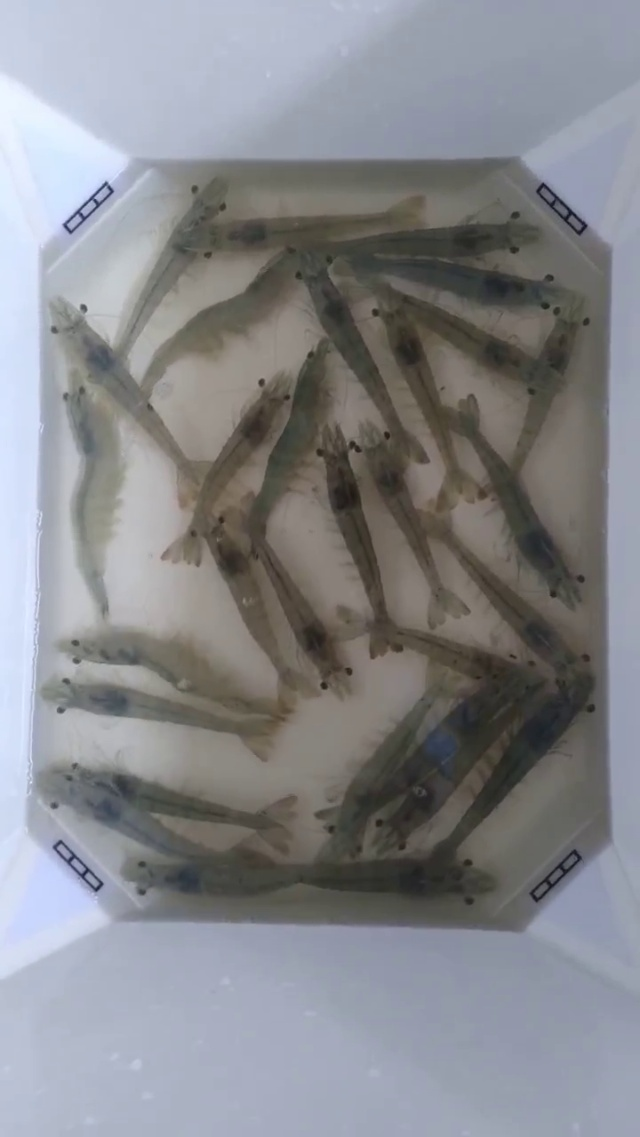shrimp: (167, 452, 275, 660), (228, 561, 338, 759), (582, 175, 639, 486), (488, 290, 585, 471), (582, 503, 639, 792), (264, 343, 358, 515), (80, 773, 186, 917), (86, 328, 191, 472), (133, 177, 227, 330), (41, 196, 139, 342), (508, 182, 607, 322), (422, 791, 522, 929), (27, 717, 110, 875), (344, 356, 428, 505), (462, 552, 567, 671), (330, 202, 430, 319), (289, 754, 373, 890), (0, 188, 40, 469), (370, 592, 496, 677), (37, 557, 108, 706), (222, 207, 327, 300), (402, 428, 480, 548), (0, 603, 37, 837), (310, 602, 398, 697)
